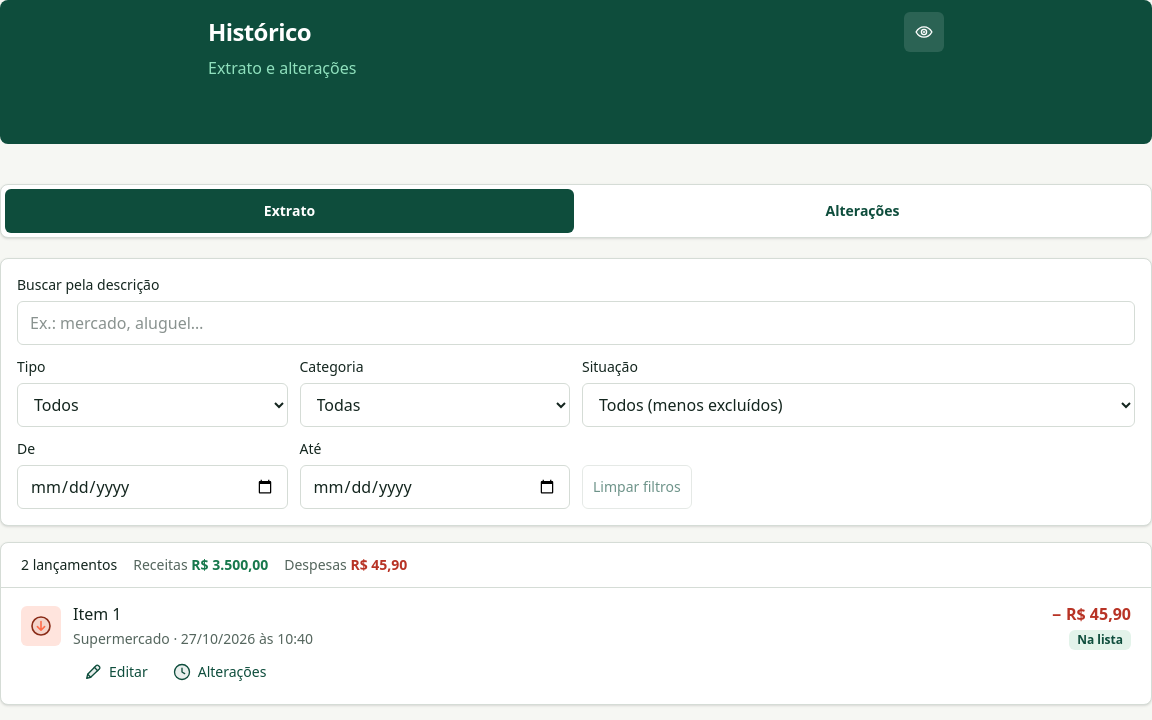
Test case: Histórico: extrato › Alterações do lançamento abre e fecha o histórico dele dentro do extrato
Expected: the text "Item 1" is shown, x1=73 y1=603 x2=122 y2=625
Click the button with aria-label "Alterações de Item 1" at (219, 672), box x1=162 y1=654 x2=276 y2=690
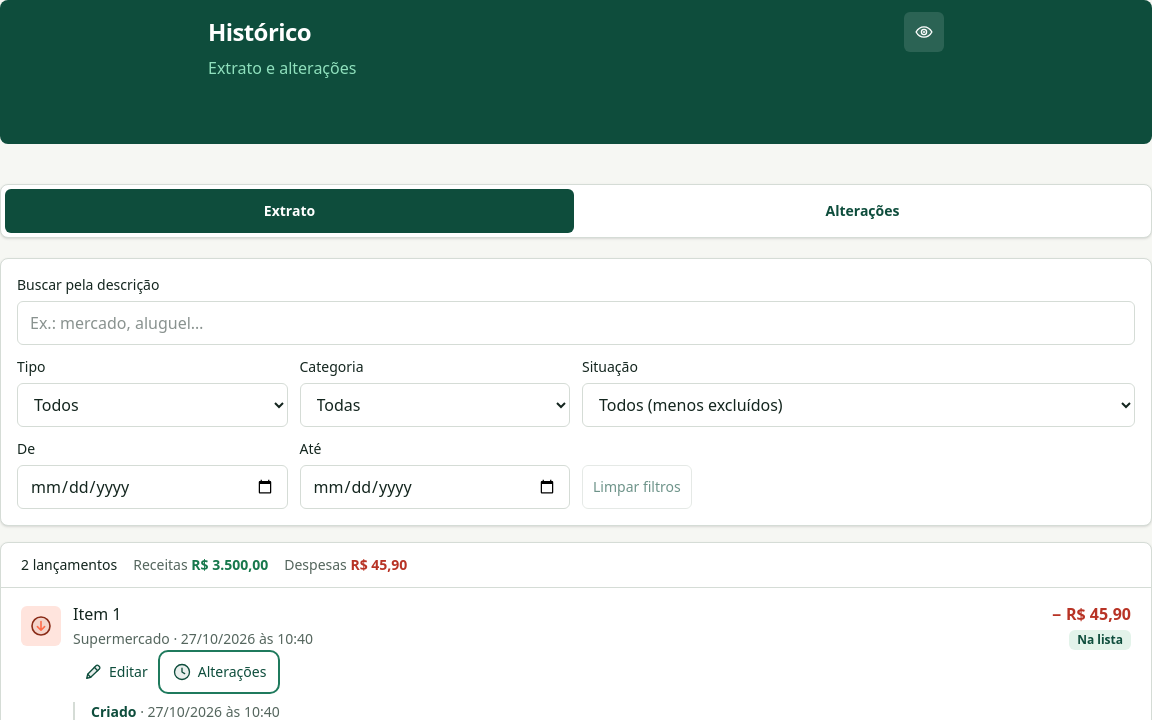
Result: the text "Criado" is shown at x1=91 y1=702 x2=136 y2=719
Click the button with aria-label "Alterações de Item 1" at (219, 672), box x1=162 y1=654 x2=276 y2=690
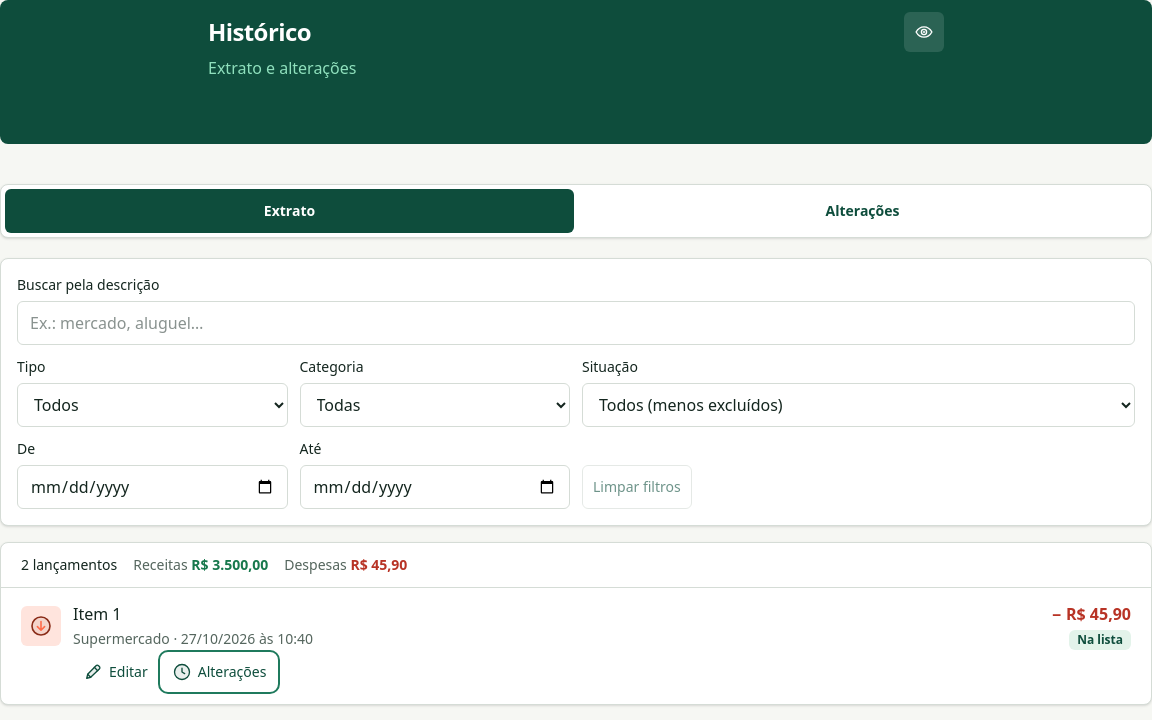
Result: the text "Criado" is gone
